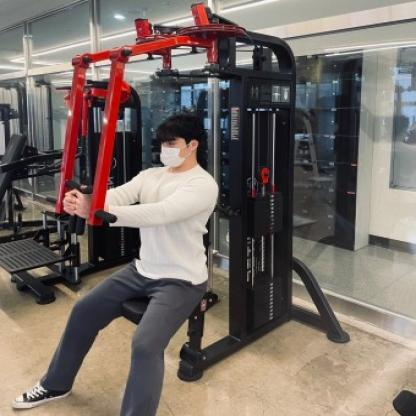chest fly machine: (0, 0, 361, 416)
